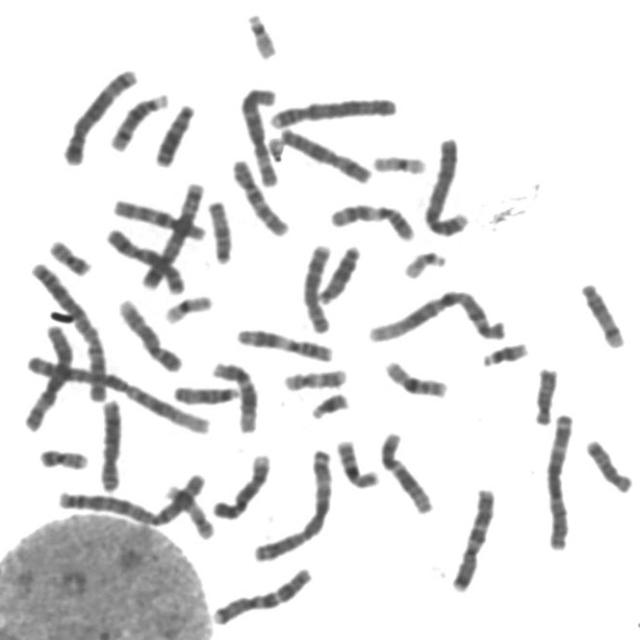A1: (16, 348, 216, 436), (362, 284, 508, 345)
A2: (22, 254, 112, 405), (51, 467, 209, 527)
A3: (247, 442, 336, 564), (539, 406, 577, 552)
B4: (418, 130, 472, 238), (263, 90, 400, 130)
B5: (56, 60, 140, 167), (136, 175, 207, 291)
C10: (224, 152, 292, 238), (107, 191, 209, 242)
C11: (229, 320, 337, 364), (323, 195, 419, 243)
C12: (373, 424, 436, 516), (206, 354, 260, 434)
C6: (16, 317, 76, 433), (234, 80, 282, 188)
C7: (206, 561, 316, 626), (444, 480, 498, 594)
C8: (296, 237, 335, 335), (93, 392, 125, 493)
C9: (112, 292, 184, 374), (206, 447, 272, 521)
D13: (148, 96, 198, 168), (312, 238, 363, 305)
D14: (103, 86, 172, 153), (574, 275, 628, 349)
D15: (201, 193, 236, 266), (166, 379, 242, 406)
E16: (378, 353, 450, 399), (330, 432, 382, 491)
E17: (159, 478, 216, 541), (278, 362, 350, 393)
E18: (580, 433, 636, 494), (528, 360, 560, 427)
F19: (157, 287, 214, 326), (366, 146, 429, 176)
F20: (42, 231, 94, 277), (32, 440, 90, 471)
G21: (476, 335, 530, 368), (304, 385, 351, 421)
G22: (240, 5, 280, 60), (398, 243, 450, 280)
X: (270, 120, 374, 186), (99, 221, 188, 295)
